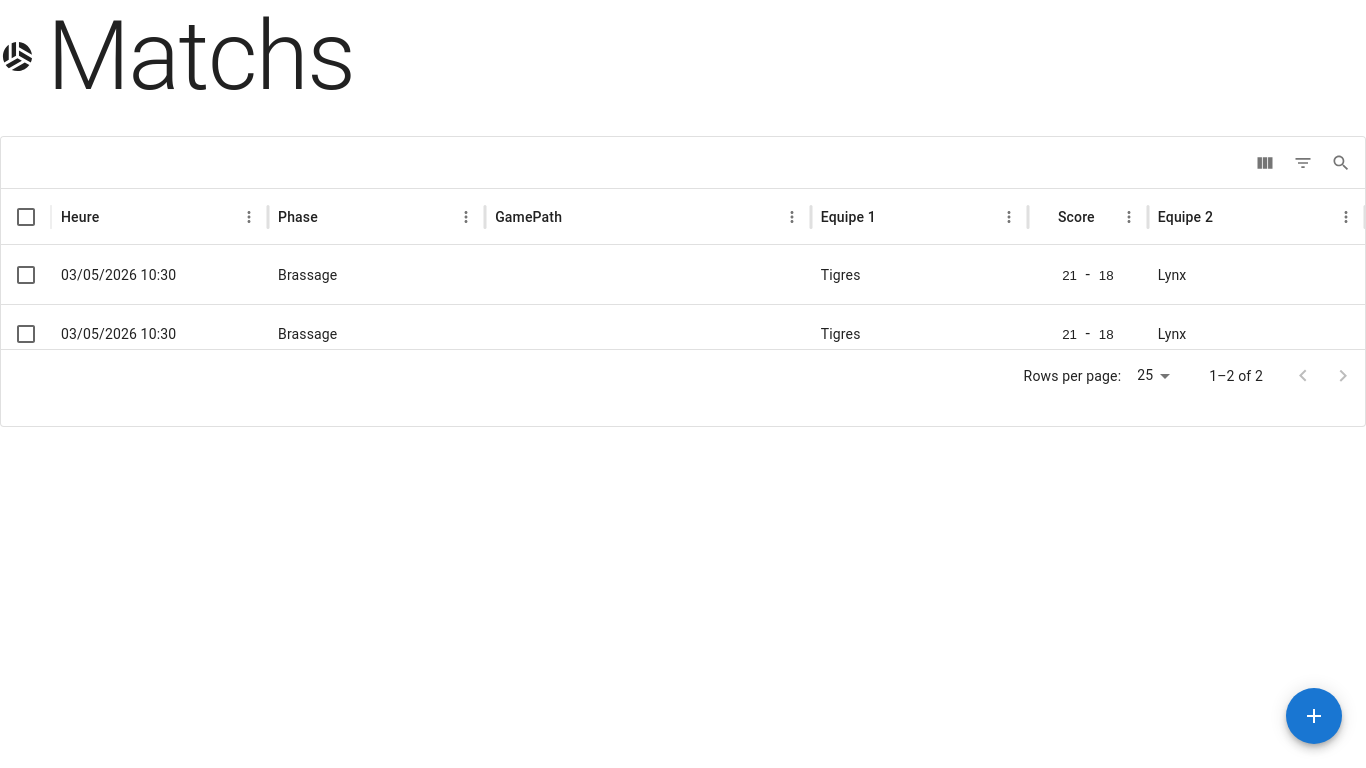
Scenario: AdminGamesView › should delete selected games after confirmation
Step 1. Click the checkbox named "Selectionner le match" → (26, 275), box [14,263,38,287]
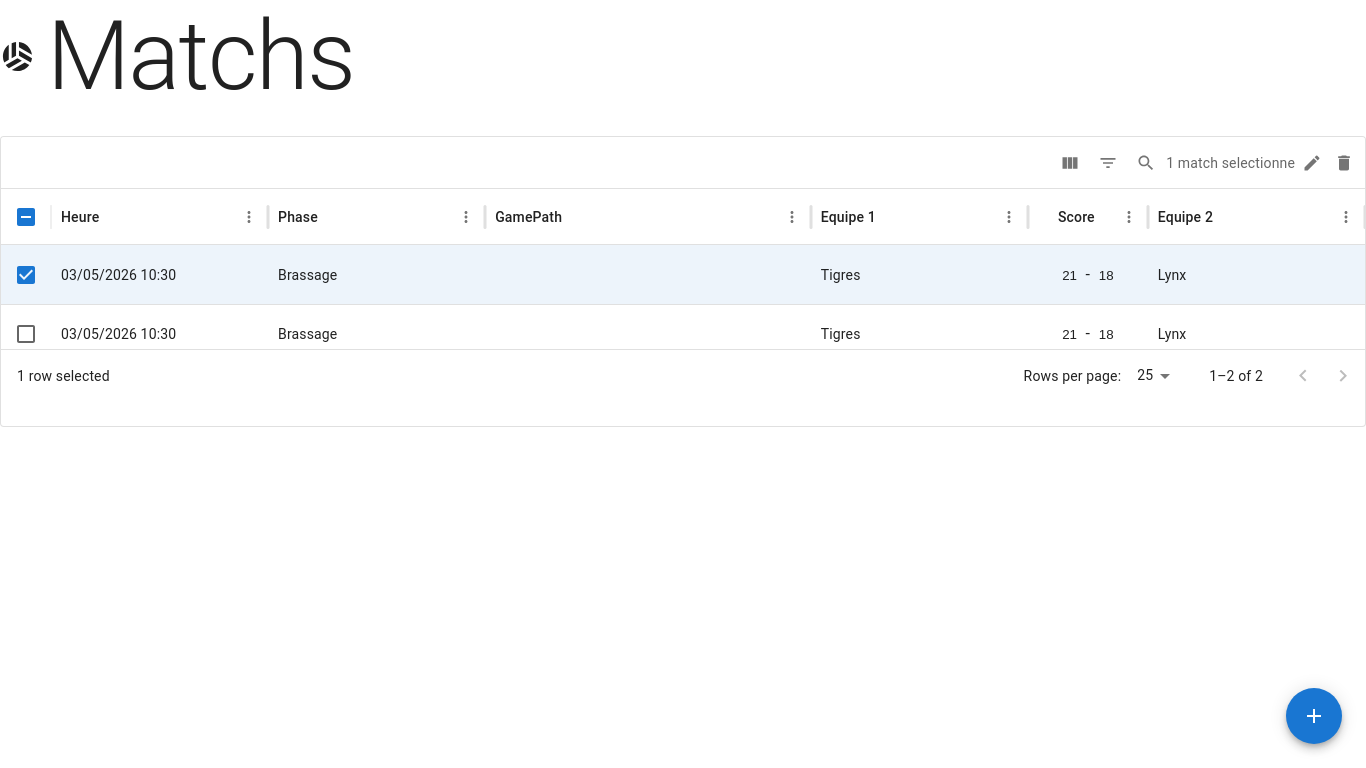
Step 2. Click the checkbox named "Selectionner le match" → (26, 334), box [14,322,38,346]
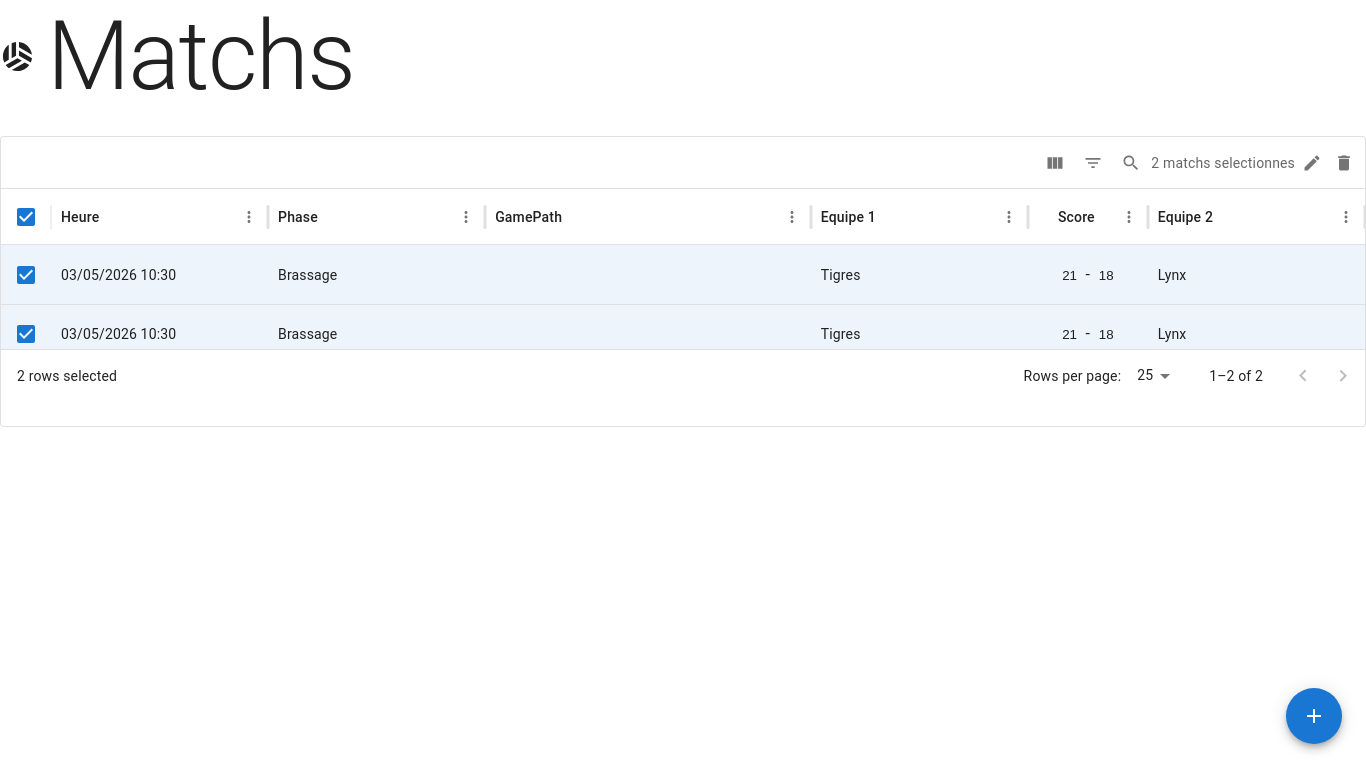
Step 3. Click the button named "Supprimer" → (1344, 162), box [1329,148,1359,178]
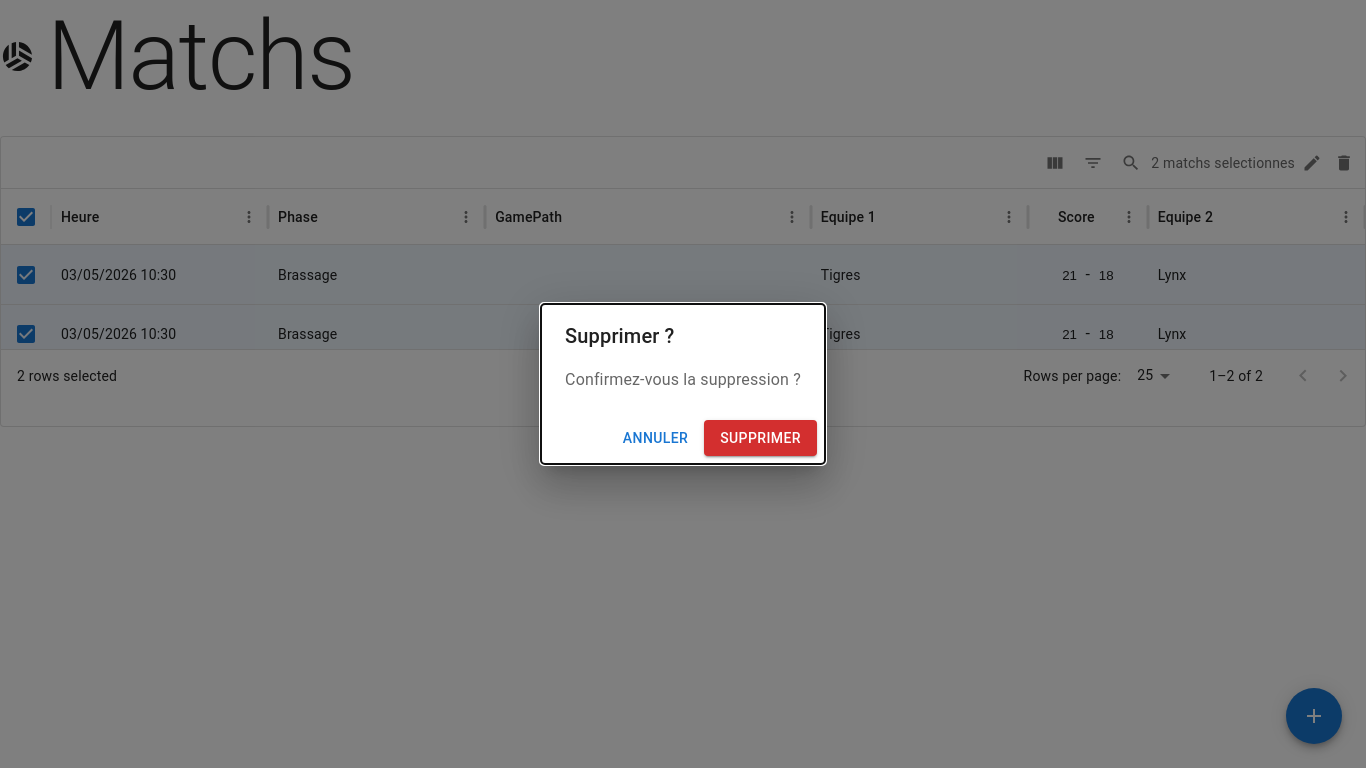
Check: the text "Confirmez-vous la suppression ?" is shown, box [565,368,801,392]
Step 4. Click the button "Supprimer" → (761, 438), box [704,420,817,456]
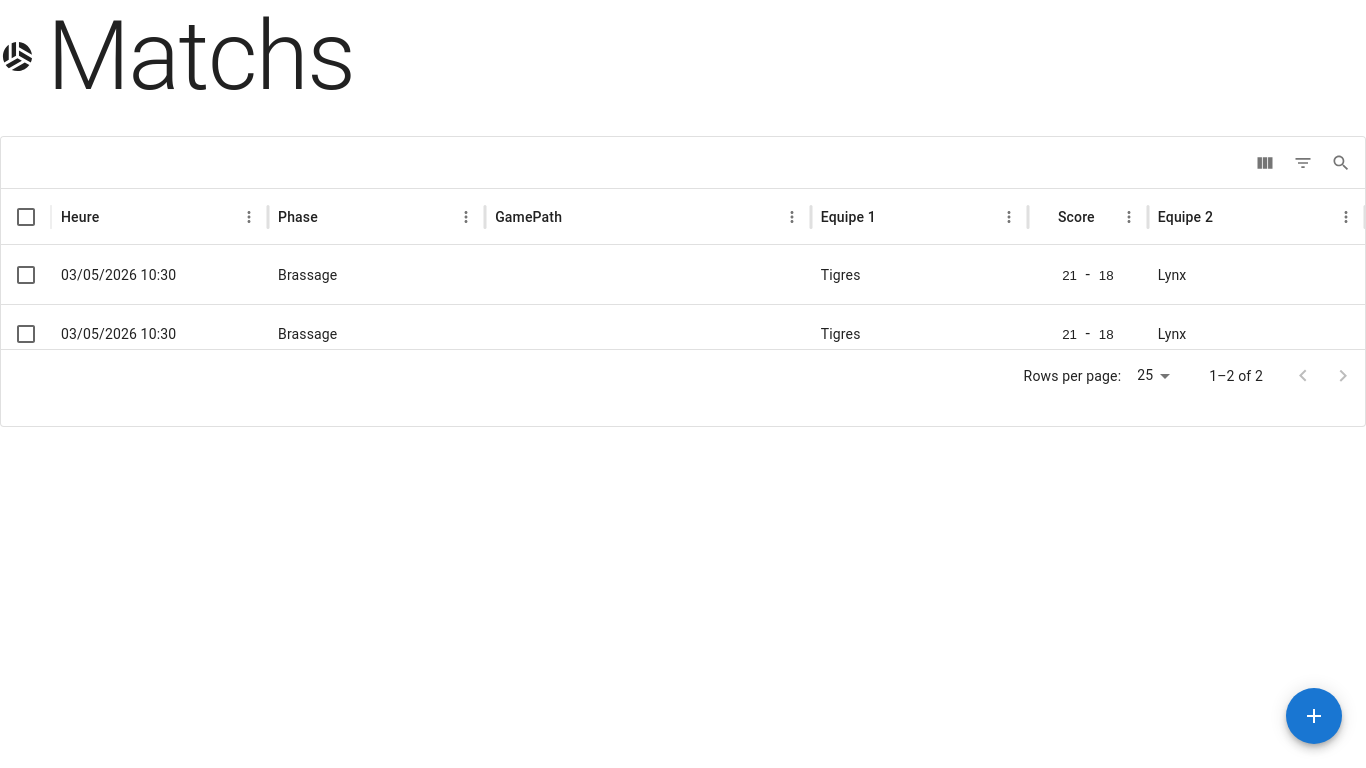
Check: the text "2 matchs selectionnes" is gone
